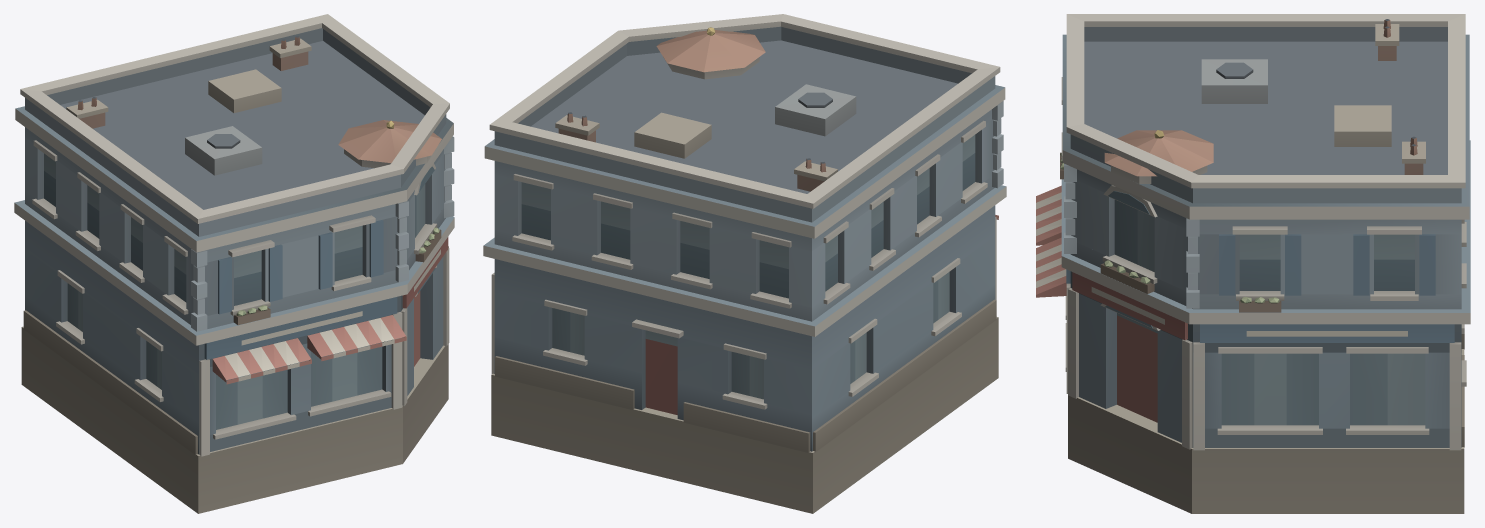
The model's file is corner.lod1.glb.
3 views of the same model, side by side, from view 1: azimuth 30°, elevation 25°; view 2: azimuth 150°, elevation 25°; view 3: azimuth 270°, elevation 25° (orthographic). The views are drawn at different scales.
Bounding box in the file's own units: 9.28 × 8.57 × 9.84.
